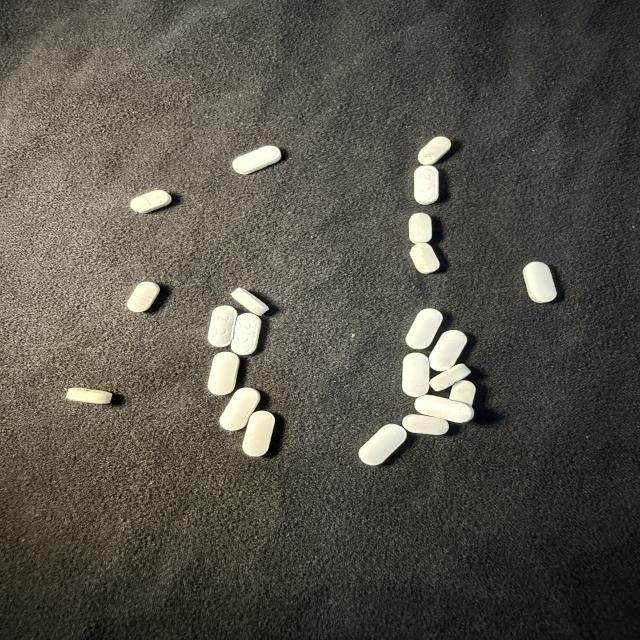pill: (359, 424, 406, 465), (220, 388, 260, 430), (415, 395, 473, 423), (429, 330, 467, 371), (406, 309, 442, 349), (243, 411, 274, 456), (232, 146, 281, 174), (523, 262, 556, 303), (208, 352, 239, 395), (231, 313, 261, 355), (208, 306, 237, 347), (402, 353, 429, 397), (430, 364, 470, 391), (231, 288, 268, 315), (127, 282, 159, 312), (418, 137, 451, 165), (131, 190, 171, 213), (414, 166, 438, 204), (403, 415, 448, 435), (410, 243, 439, 273), (66, 388, 112, 404), (409, 213, 431, 243), (450, 380, 475, 406)
